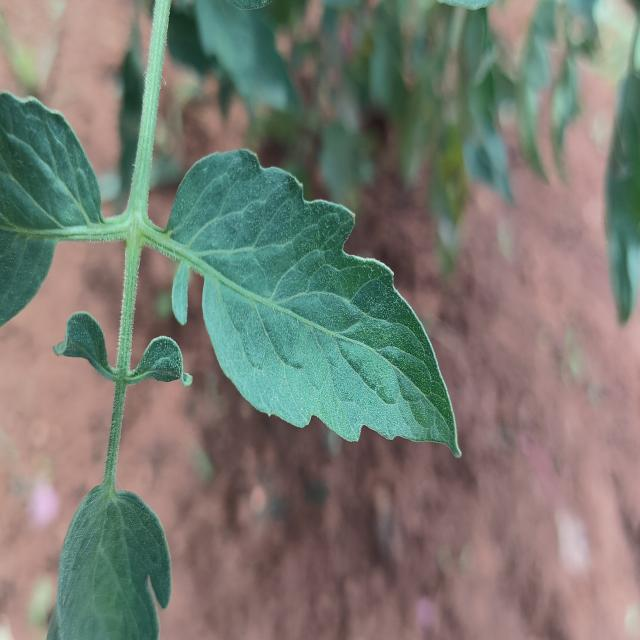tomato_healthy: (162, 143, 462, 465)
